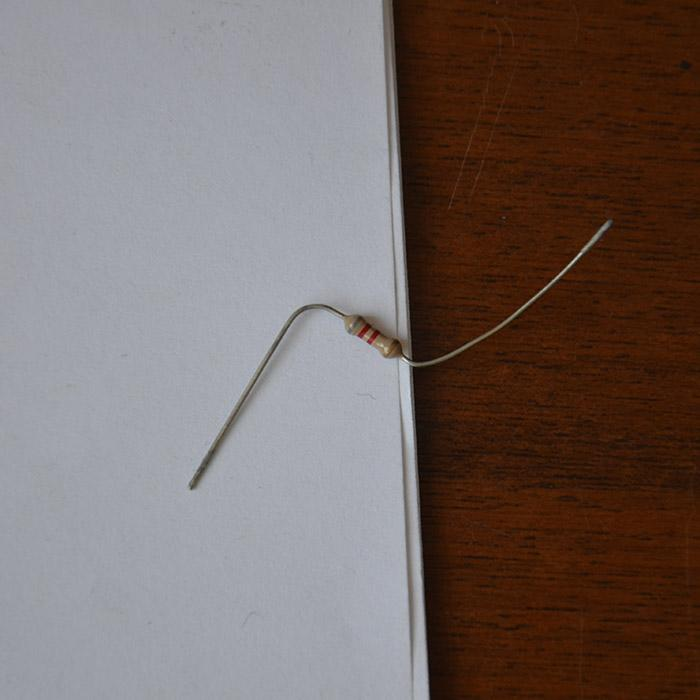resistor: (342, 312, 400, 359)
